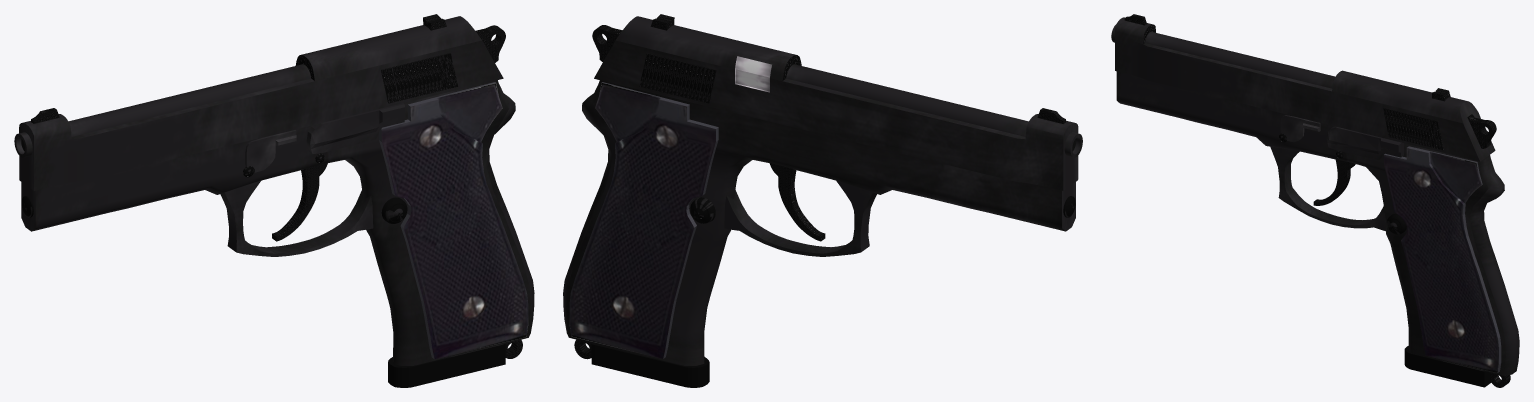
Rendered from Handgun.FBX.
3 renders of one model, left to right at view 1: azimuth 30°, elevation 25°; view 2: azimuth 150°, elevation 25°; view 3: azimuth 330°, elevation 25°, orthographic. The views are drawn at different scales.
Visible parts, largest first — view 1: Handgun, Object001; view 2: Handgun, Object001; view 3: Handgun, Object001.
Part boxes in pixels (x1,y1,x2,y2): Handgun: (14, 14, 534, 387); Object001: (379, 82, 528, 359); Handgun: (563, 14, 1082, 387); Object001: (569, 82, 718, 358); Handgun: (1111, 14, 1519, 387); Object001: (1384, 146, 1501, 372).
Bounding box in the file's own units: 337 × 226 × 29.77.
Materials: 2 (2 with a texture image).
